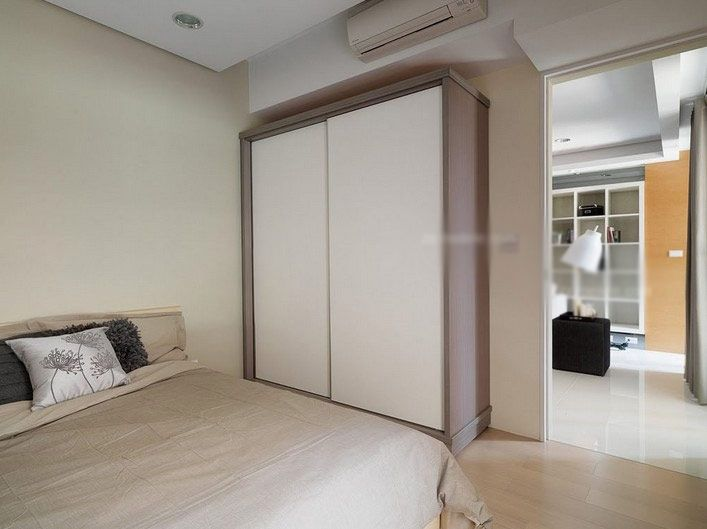床: (0, 354, 431, 524)
枕头: (9, 315, 173, 401)
灯: (560, 223, 609, 322), (169, 13, 202, 33)
